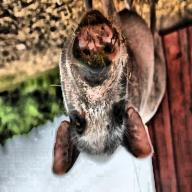boar: (50, 0, 166, 177)
